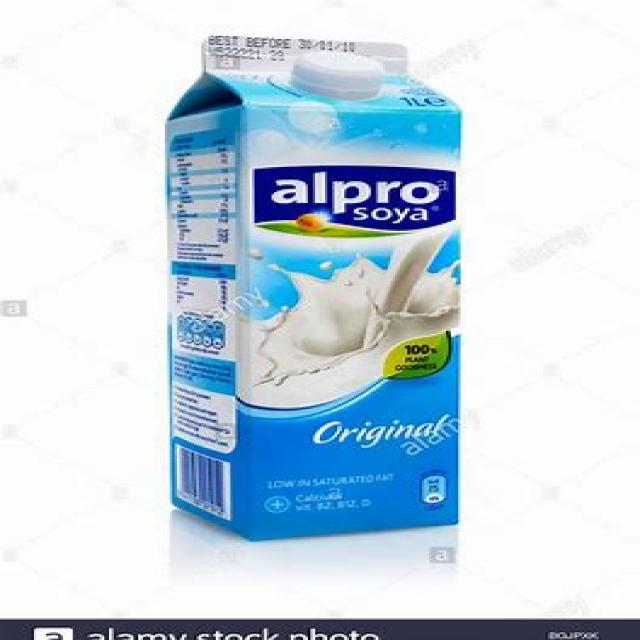non_white_jug: (160, 26, 460, 542)
